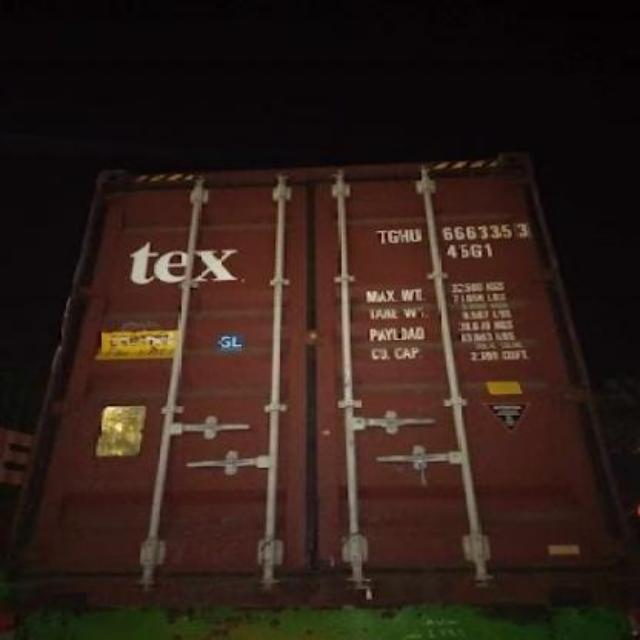3: (476, 223, 489, 241), (518, 224, 532, 238), (490, 223, 500, 241)
5: (498, 222, 516, 242)
6: (466, 226, 479, 242), (440, 225, 452, 241), (454, 226, 466, 242)
G: (388, 229, 400, 245)
H: (398, 228, 410, 244)
T: (372, 230, 390, 244)
U: (411, 227, 424, 243)
